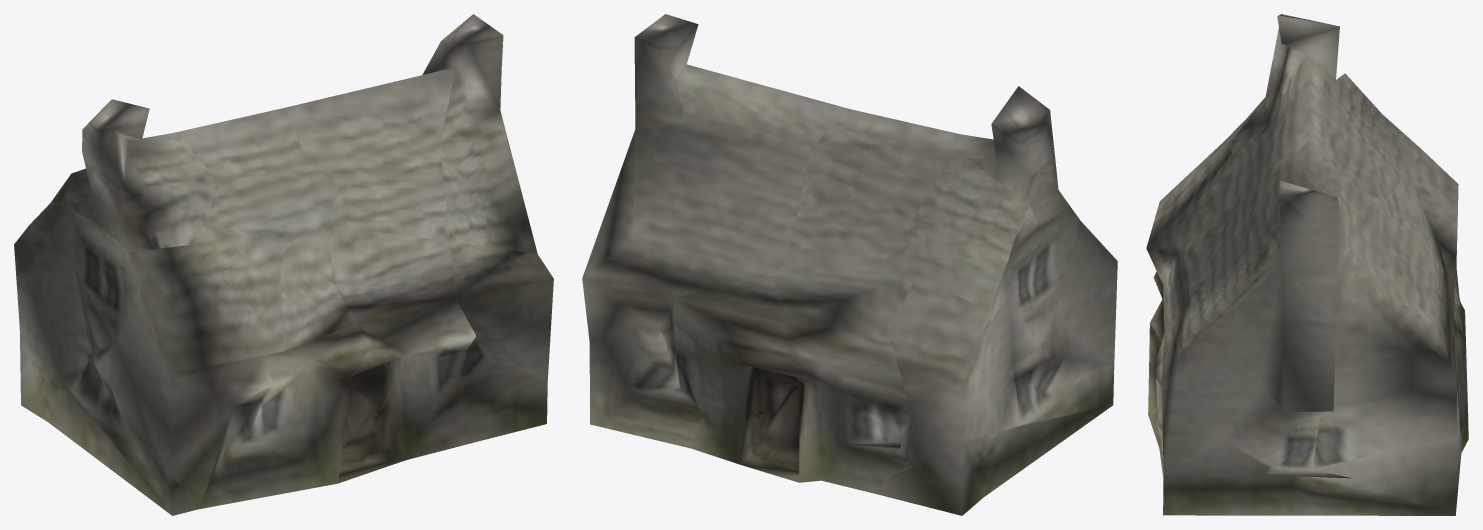
File: house_english_lo.glb
3 renders of one model, left to right at view 1: azimuth 30°, elevation 25°; view 2: azimuth 150°, elevation 25°; view 3: azimuth 270°, elevation 25°, orthographic. The views are drawn at different scales.
Parts seen in each view (by area): view 1: tripo_node_b0cf1579-34e5-4efb-a957-d5d8b9eb06c8; view 2: tripo_node_b0cf1579-34e5-4efb-a957-d5d8b9eb06c8; view 3: tripo_node_b0cf1579-34e5-4efb-a957-d5d8b9eb06c8.
Part boxes in pixels (x1,y1,x2,y2): tripo_node_b0cf1579-34e5-4efb-a957-d5d8b9eb06c8: (14, 14, 553, 515); tripo_node_b0cf1579-34e5-4efb-a957-d5d8b9eb06c8: (582, 14, 1117, 515); tripo_node_b0cf1579-34e5-4efb-a957-d5d8b9eb06c8: (1146, 14, 1468, 515).
Bounding box in the file's own units: 0.9656 × 0.8206 × 0.7006.
Materials: 1 (1 with a texture image).
